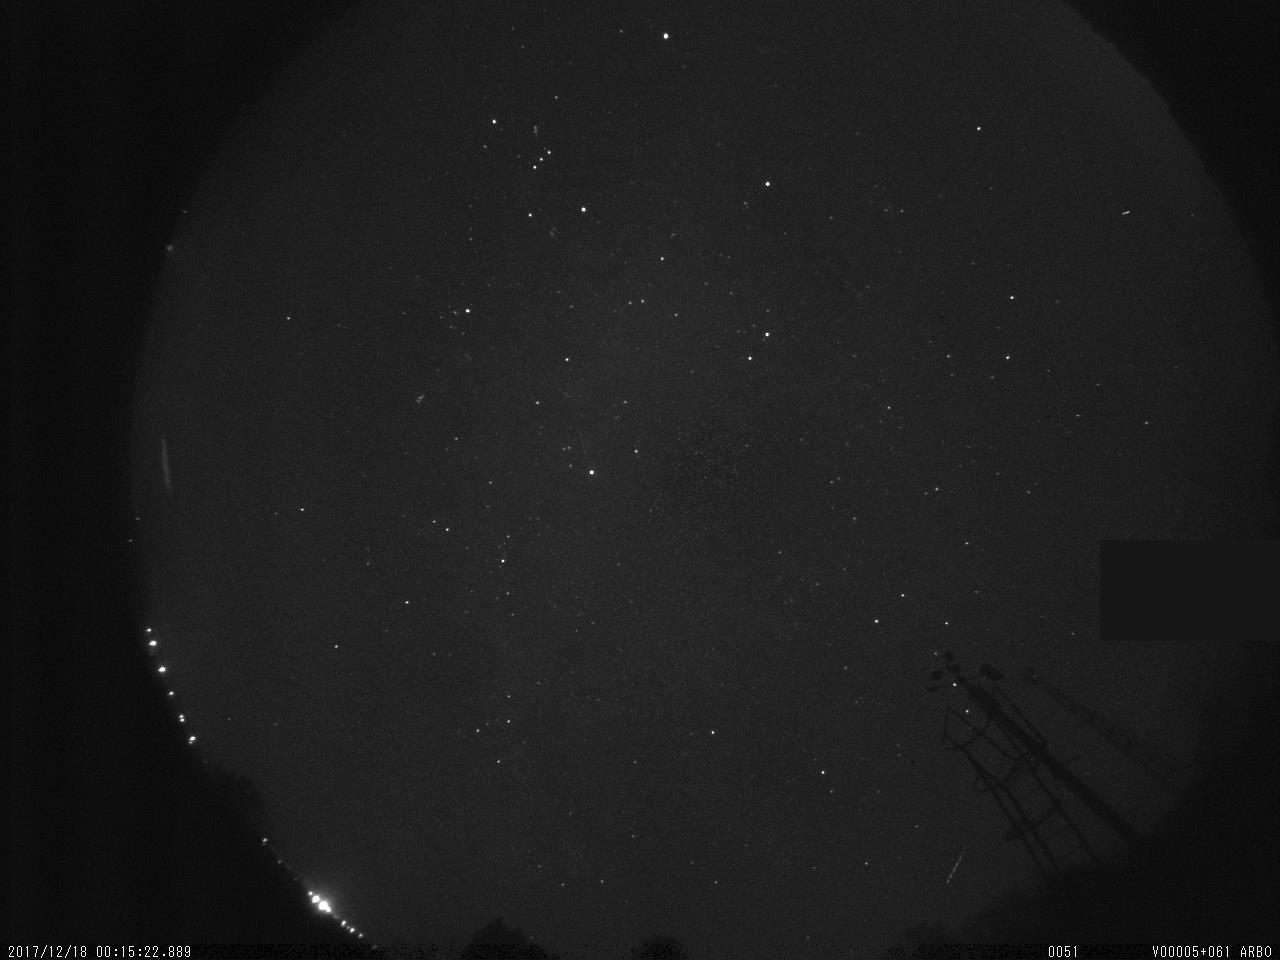meteor: (938, 833, 971, 896)
